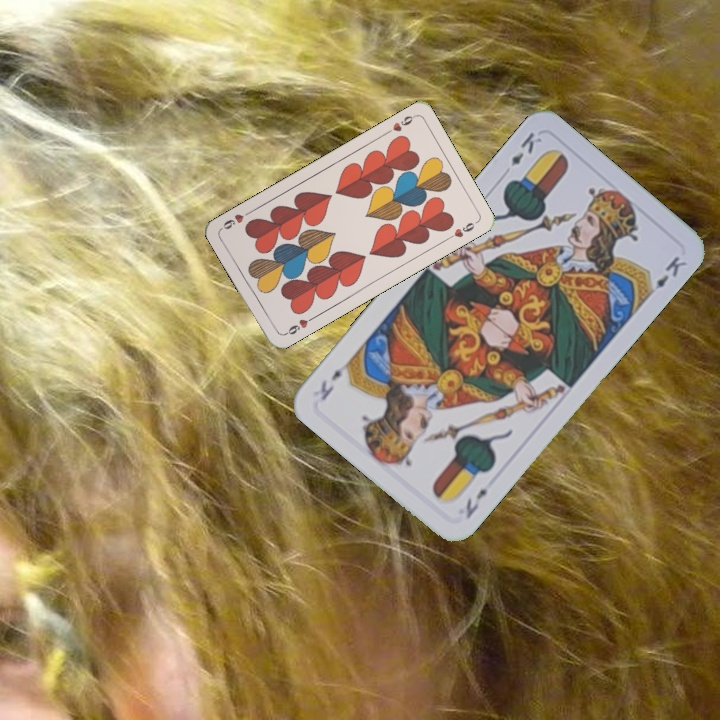EK: (506, 128, 545, 169), (461, 484, 491, 522)
H9: (381, 111, 418, 137), (280, 313, 317, 338)
